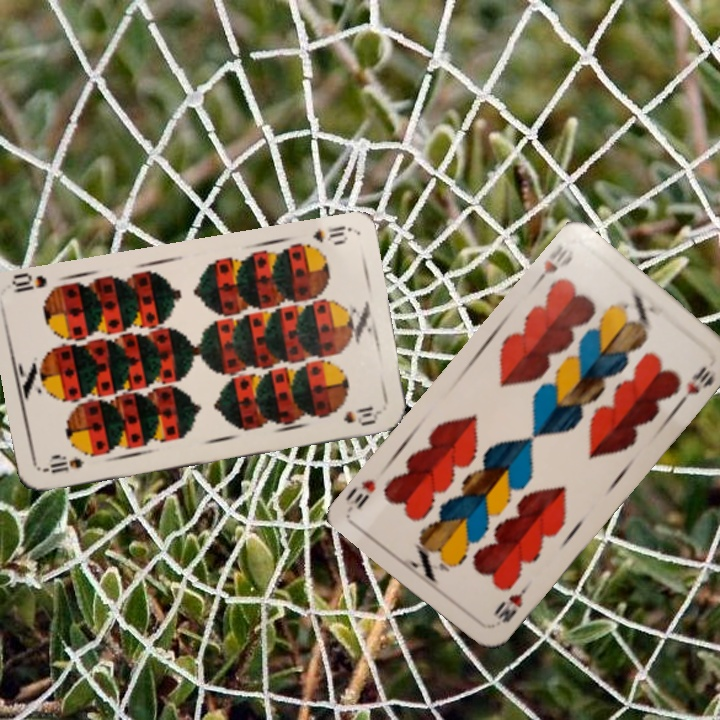H10: (530, 240, 577, 289), (489, 581, 531, 626)
S10: (39, 452, 87, 476), (308, 221, 352, 247)
